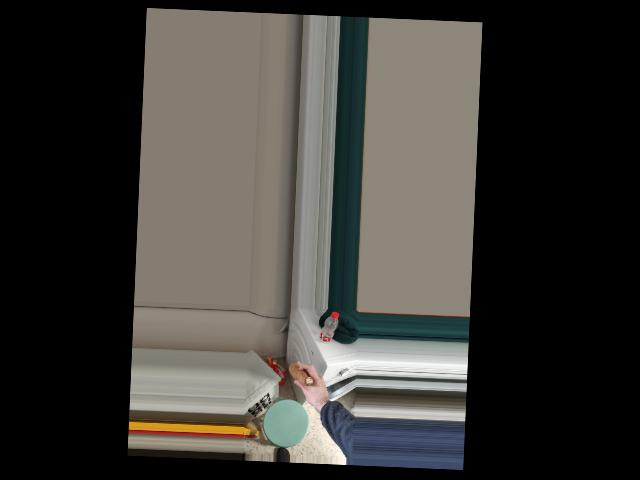sweet_potato: (289, 360, 316, 389)
